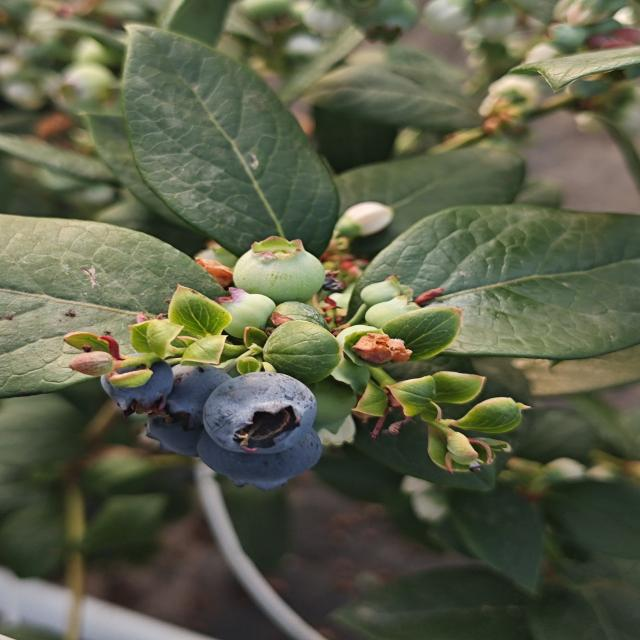ripe: (212, 366, 322, 450), (193, 434, 324, 484), (164, 362, 234, 432), (104, 362, 169, 412)
